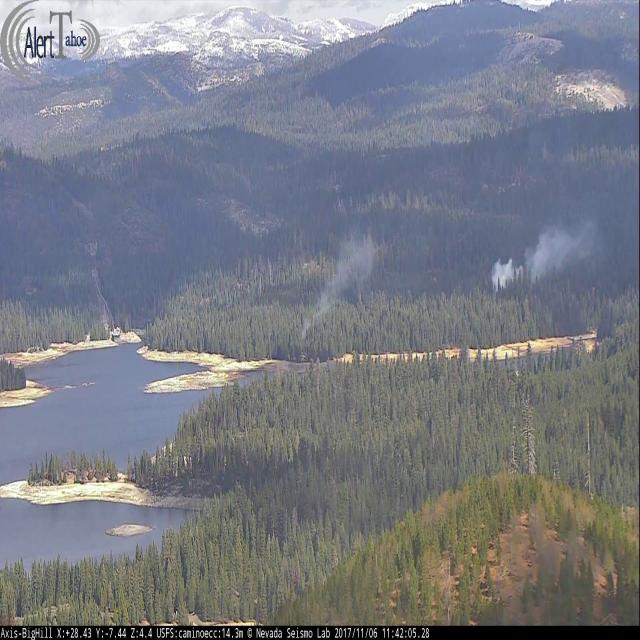smoke: (484, 212, 608, 295), (300, 234, 379, 346)
